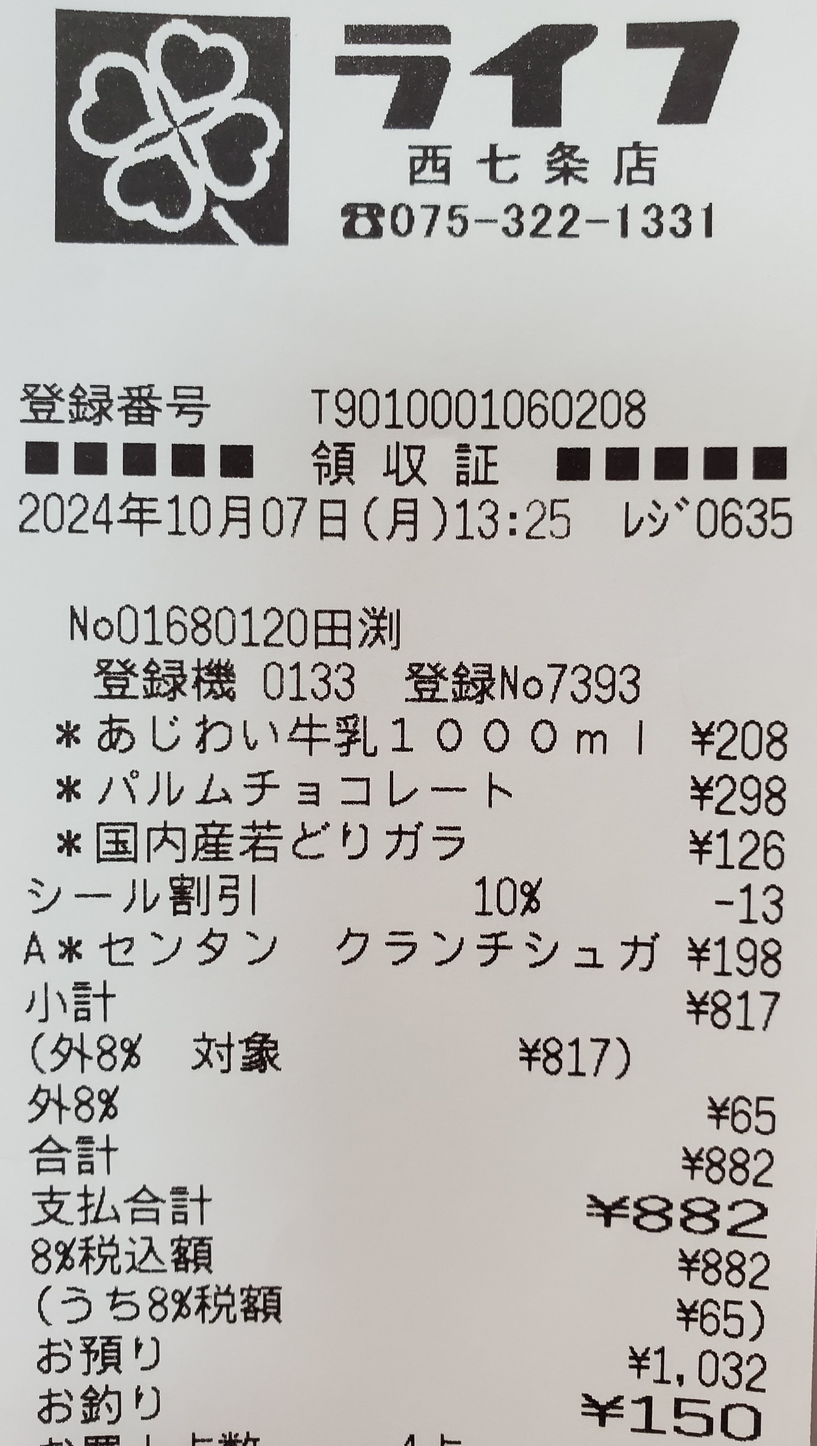Date: (14, 481, 363, 546)
Shopname: (322, 12, 748, 144)
Telnum: (386, 195, 732, 253)
Totalpay: (20, 1184, 794, 1236)
